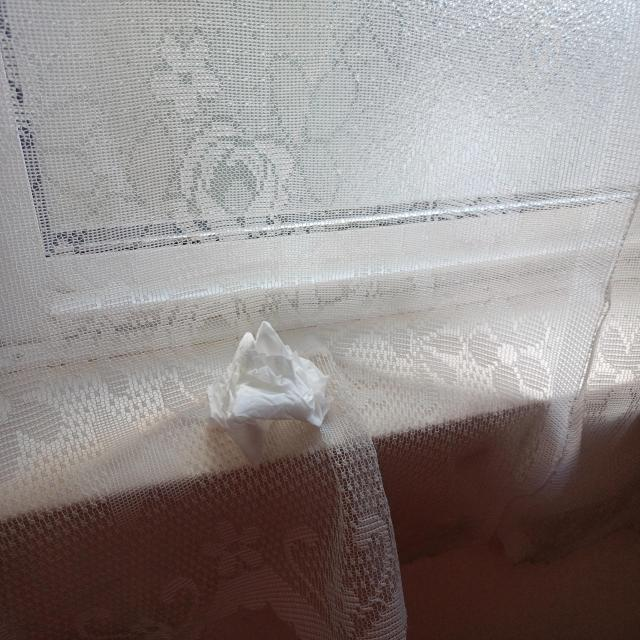衛生紙: (201, 316, 342, 464)
